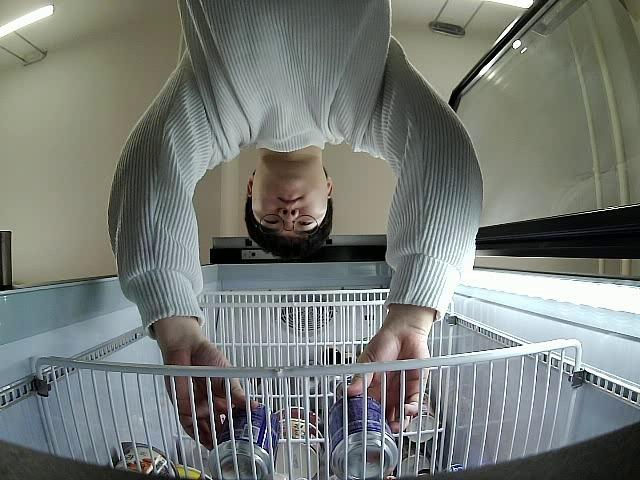14_welchsGrape: (328, 392, 399, 480), (208, 402, 280, 480)
